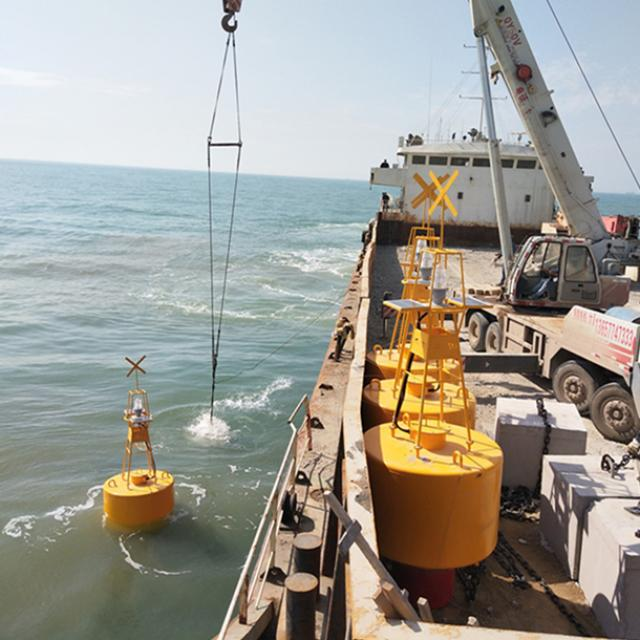buoy: (100, 350, 185, 528)
